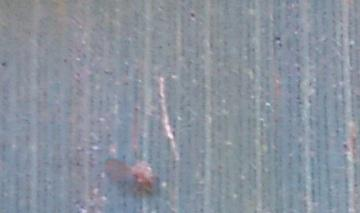tarspot: (275, 35, 282, 48), (189, 11, 196, 20), (1, 61, 7, 67)
